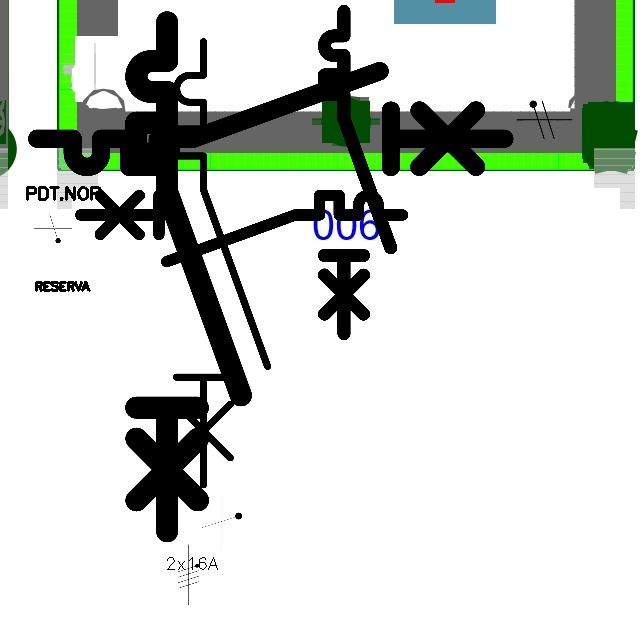interruptor_termomagnetico: (123, 9, 254, 544), (25, 59, 516, 179), (165, 30, 279, 496), (316, 3, 399, 342), (72, 187, 410, 269)
